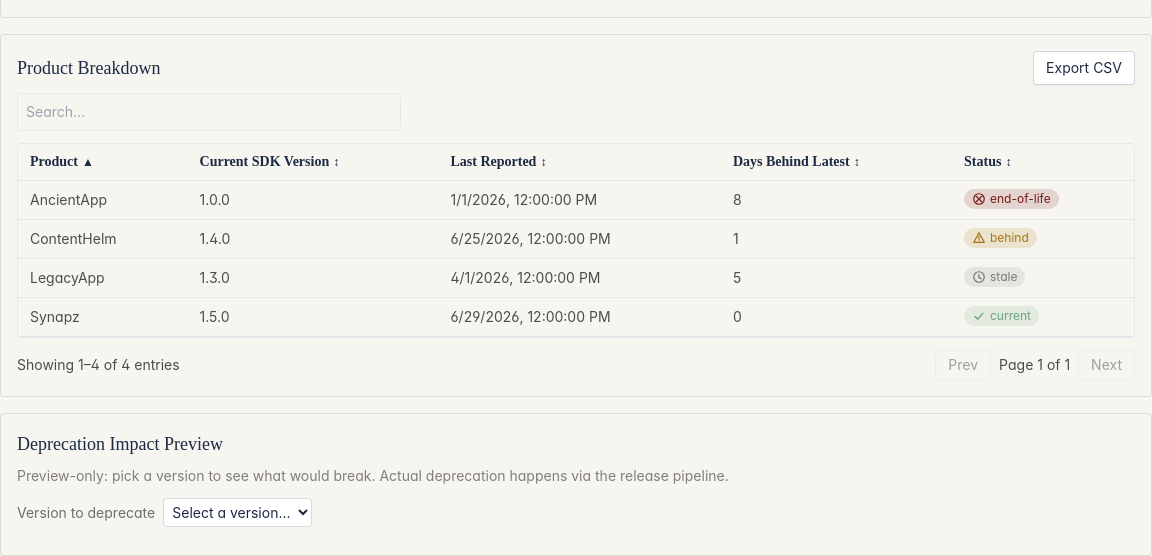
Test case: SdkVersions NFR verification (HUB-1636) › AC#2 — impact widget response < 1s NFR › selecting a version + impact compute completes well under 1000ms
(page scrolled)
Select "1.4.0" in the dropdown with test id "impact-version-select" at (238, 512), box [163,498,312,527]
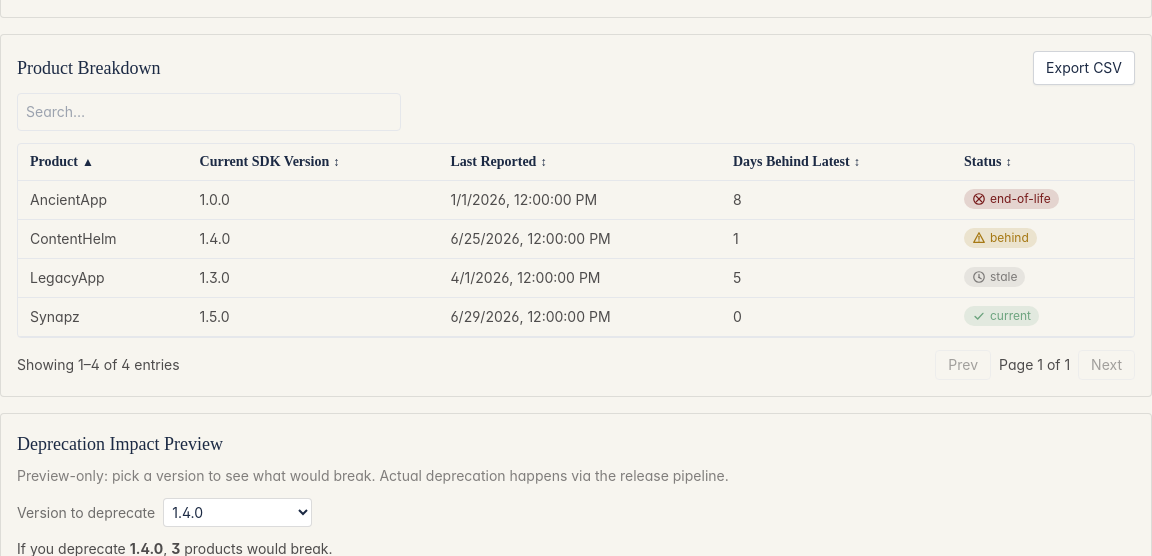
expect the text with test id "impact-count" reads "3": met, box [171,540,180,555]
